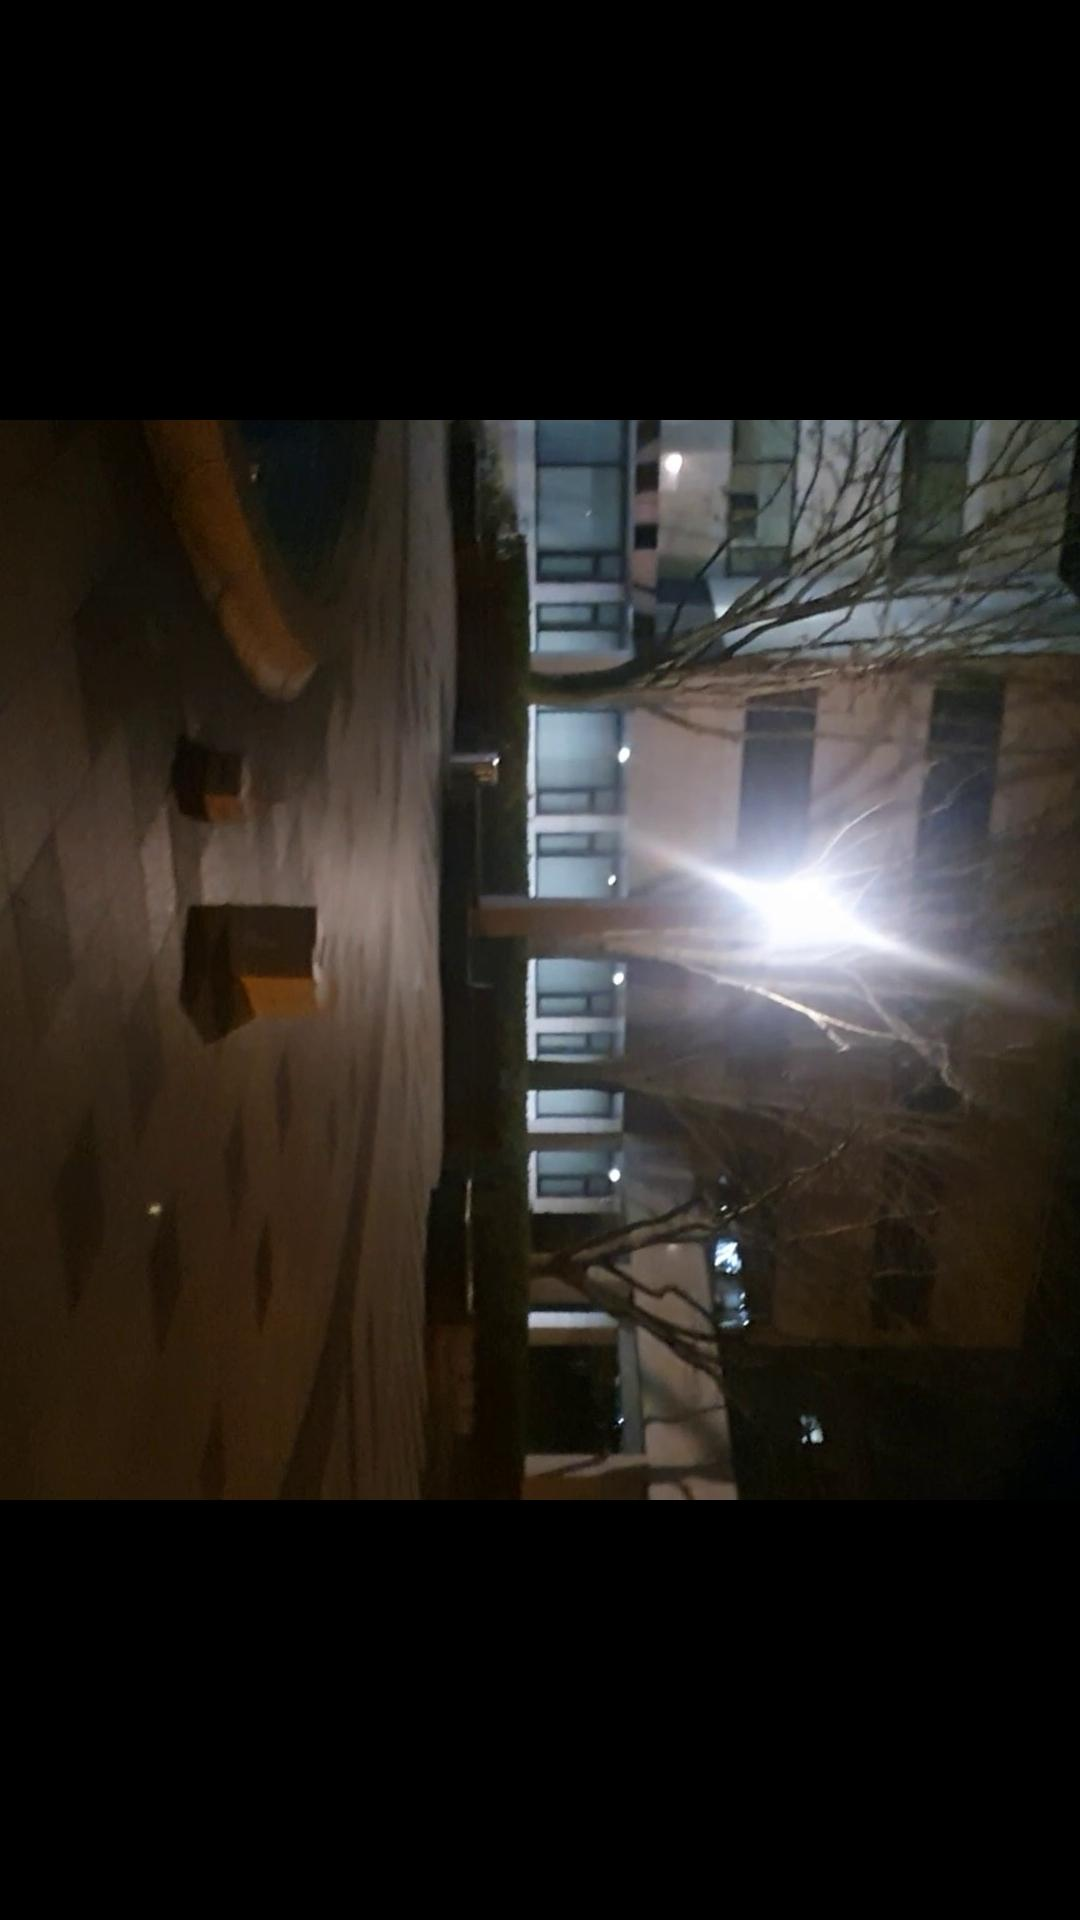Box: (220, 893, 332, 1015), (183, 746, 265, 825)
